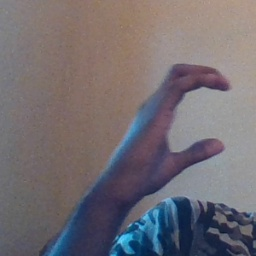C: (142, 61, 238, 172)
